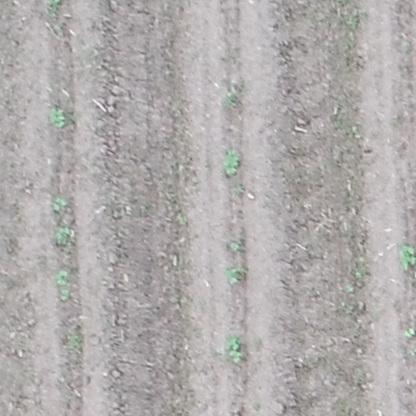vc: (221, 149, 242, 177), (47, 105, 69, 128), (399, 243, 416, 272), (58, 269, 72, 301), (227, 338, 244, 364), (225, 267, 243, 286), (54, 224, 70, 244), (51, 196, 67, 213), (401, 325, 416, 341)
